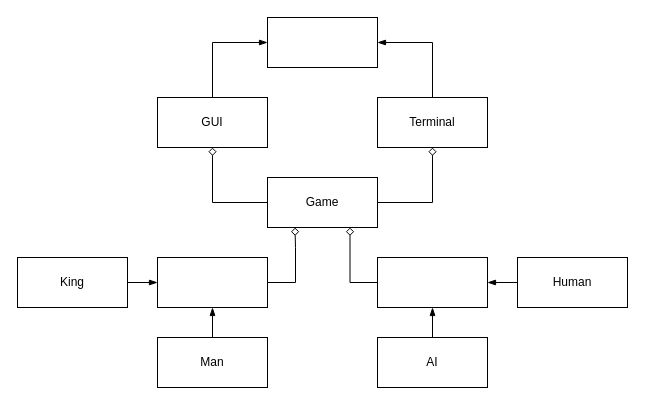
Some shapes in this 645 by 405 pixel diagram are drawn without their labels. The shapes that lost their labels are listed below. From the top down, each one's centre as x and y in pixels, then its label:
point (322, 42): User Interface
point (212, 282): Peice
point (432, 282): Player
